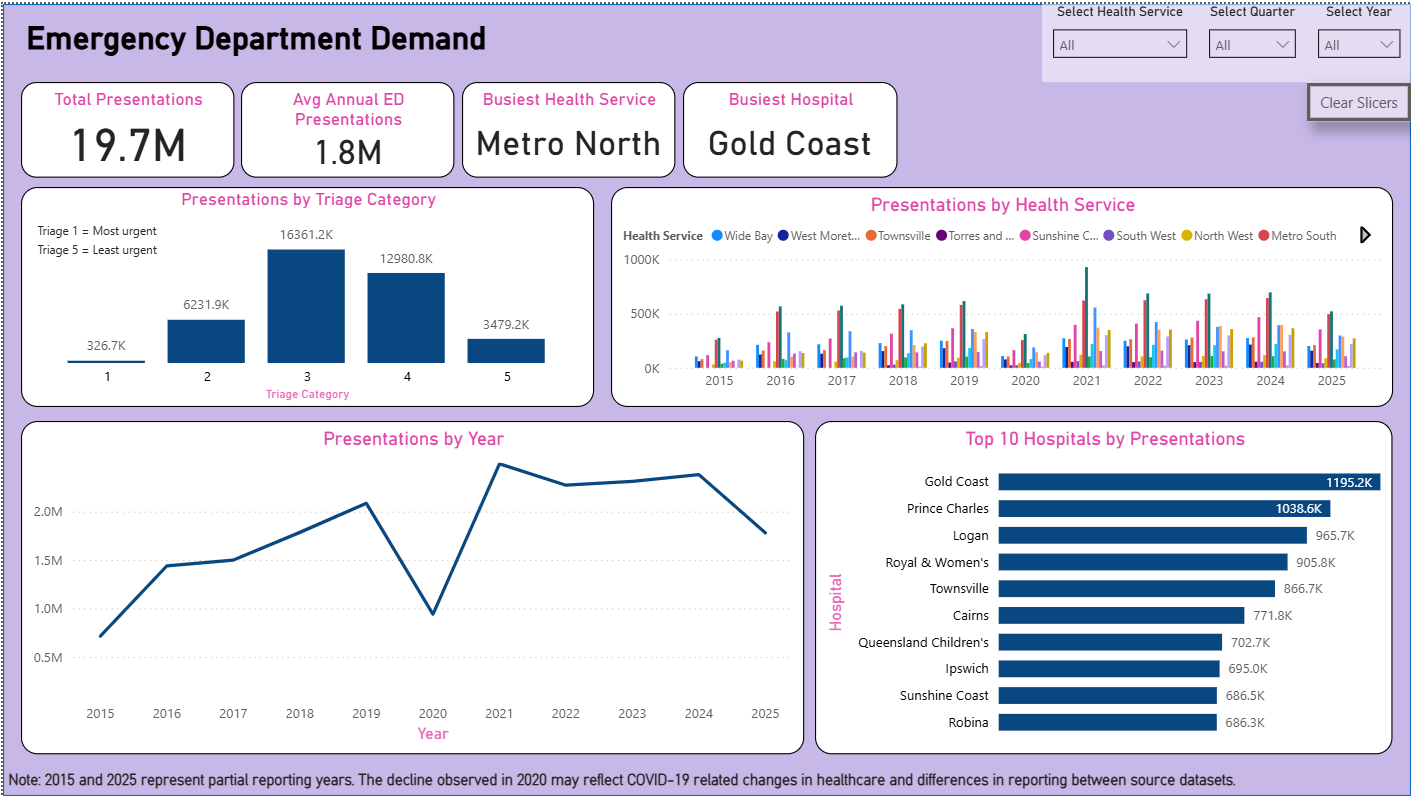

The dashboard page shown, as its layout file describes it:
{"tool":"powerbi","page":{"name":"Pillar 1 - Emergency Department Demand","canvas":[1280,720],"ordinal":0},"visuals":[{"type":"shape","box":[0,0,1280,720],"z":0},{"type":"card","title":"Total Presentations","fields":{"Values":["Sum(public ed_master.number_of_attendances)"]},"box":[16.4,70.9,193.6,87.3],"z":1000},{"type":"lineChart","title":"Presentations by Year","fields":{"Y":["Sum(public ed_master.number_of_attendances)"],"Category":["public ed_master.year"]},"box":[16,379,712,303],"z":2000},{"type":"barChart","title":"Top 10 Hospitals by Presentations","fields":{"Y":["Sum(public ed_master.number_of_attendances)"],"Category":["public ed_master.facility_name"]},"box":[738.2,379.1,525.5,302.7],"z":3000},{"type":"clusteredColumnChart","title":"Presentations by Triage Category","fields":{"Category":["public ed_master.triage_category"],"Y":["Sum(public ed_master.number_of_attendances)"]},"box":[16,166,521,200],"z":4000},{"type":"slicer","title":"Select Year","fields":{"Values":["public ed_master.year"]},"box":[1185.5,0,94.5,71.8],"z":5000},{"type":"slicer","title":"Select Quarter","fields":{"Values":["public ed_master.quarter"]},"box":[1086.4,0,99.1,70.9],"z":6000},{"type":"slicer","title":"Select Health Service","fields":{"Values":["public ed_master.health_service"]},"box":[944.5,0,141.8,70.9],"z":7000},{"type":"textbox","box":[16,9,498,46],"z":8000},{"type":"textbox","box":[0,691,1280,29],"z":9000},{"type":"card","title":"Busiest Health Service","fields":{"Values":["public ed_master.Busiest Health Service"]},"box":[417.3,70.9,193.6,87.3],"z":10000},{"type":"card","title":"Busiest Hospital","fields":{"Values":["public ed_master.Busiest Hospital"]},"box":[618.2,70.9,194.5,87.3],"z":11000},{"type":"card","title":"Avg Annual ED Presentations","fields":{"Values":["public ed_master.Average Annual Presentations"]},"box":[216.4,70.9,193.6,87.3],"z":12000},{"type":"textbox","box":[26,191,137,50],"z":13000},{"type":"clusteredColumnChart","title":"Presentations by Health Service","fields":{"Category":["public ed_master.year"],"Y":["Sum(public ed_master.number_of_attendances)"],"Series":["public ed_master.health_service"]},"box":[552.7,166.4,710.9,200],"z":14000},{"type":"actionButton","box":[1185.5,71.8,94.5,34.5],"z":15000}]}

Visuals, with their boxes in screenshot pixels (x1, y1, x2, y2), scaled from the page's 1280x720 canvas onto the 1411x796 screenshot:
shape: (left=0, top=0, right=1410, bottom=795)
"Total Presentations" card: (left=18, top=78, right=231, bottom=175)
"Presentations by Year" lineChart: (left=18, top=419, right=803, bottom=754)
"Top 10 Hospitals by Presentations" barChart: (left=814, top=419, right=1393, bottom=754)
"Presentations by Triage Category" clusteredColumnChart: (left=18, top=184, right=592, bottom=405)
"Select Year" slicer: (left=1307, top=0, right=1410, bottom=79)
"Select Quarter" slicer: (left=1198, top=0, right=1307, bottom=78)
"Select Health Service" slicer: (left=1041, top=0, right=1197, bottom=78)
textbox: (left=18, top=10, right=567, bottom=61)
textbox: (left=0, top=764, right=1410, bottom=795)
"Busiest Health Service" card: (left=460, top=78, right=673, bottom=175)
"Busiest Hospital" card: (left=681, top=78, right=896, bottom=175)
"Avg Annual ED Presentations" card: (left=239, top=78, right=452, bottom=175)
textbox: (left=29, top=211, right=180, bottom=266)
"Presentations by Health Service" clusteredColumnChart: (left=609, top=184, right=1393, bottom=405)
actionButton: (left=1307, top=79, right=1410, bottom=118)
